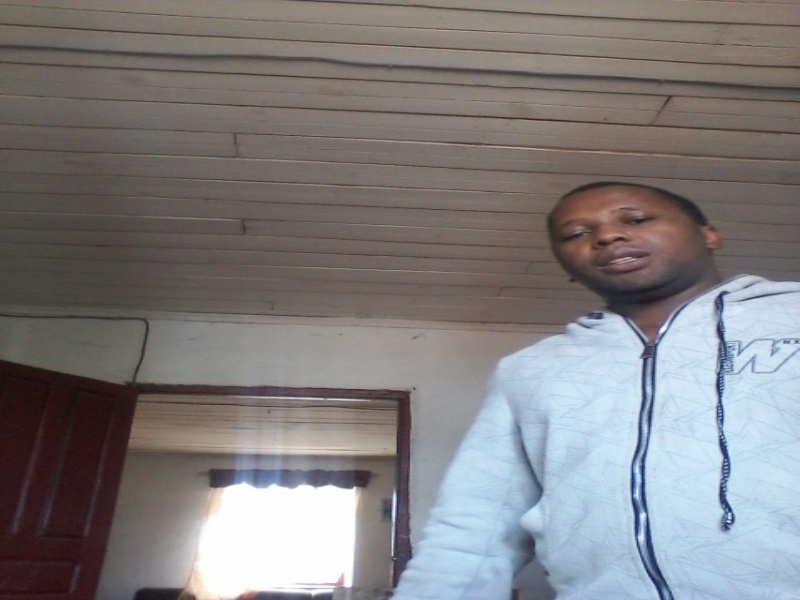TsisyArotava: (536, 166, 719, 317)
